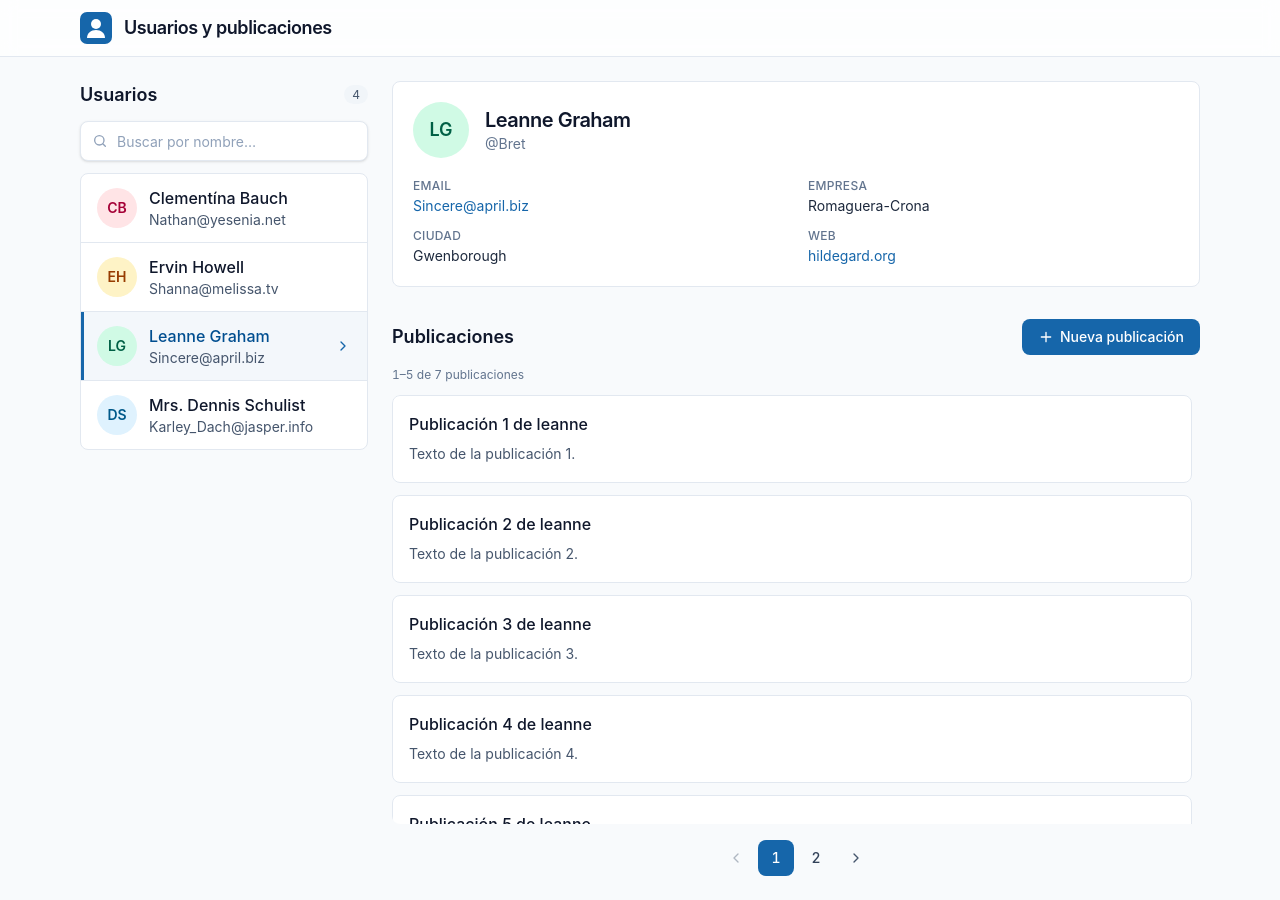
Scenario: Publicaciones del usuario › se paginan de 5 en 5
Expected: the text "1–5 de 7 publicaciones" is shown, x1=392 y1=367 x2=524 y2=382
Click the button named "Página siguiente" at (856, 858), box x1=838 y1=840 x2=874 y2=876
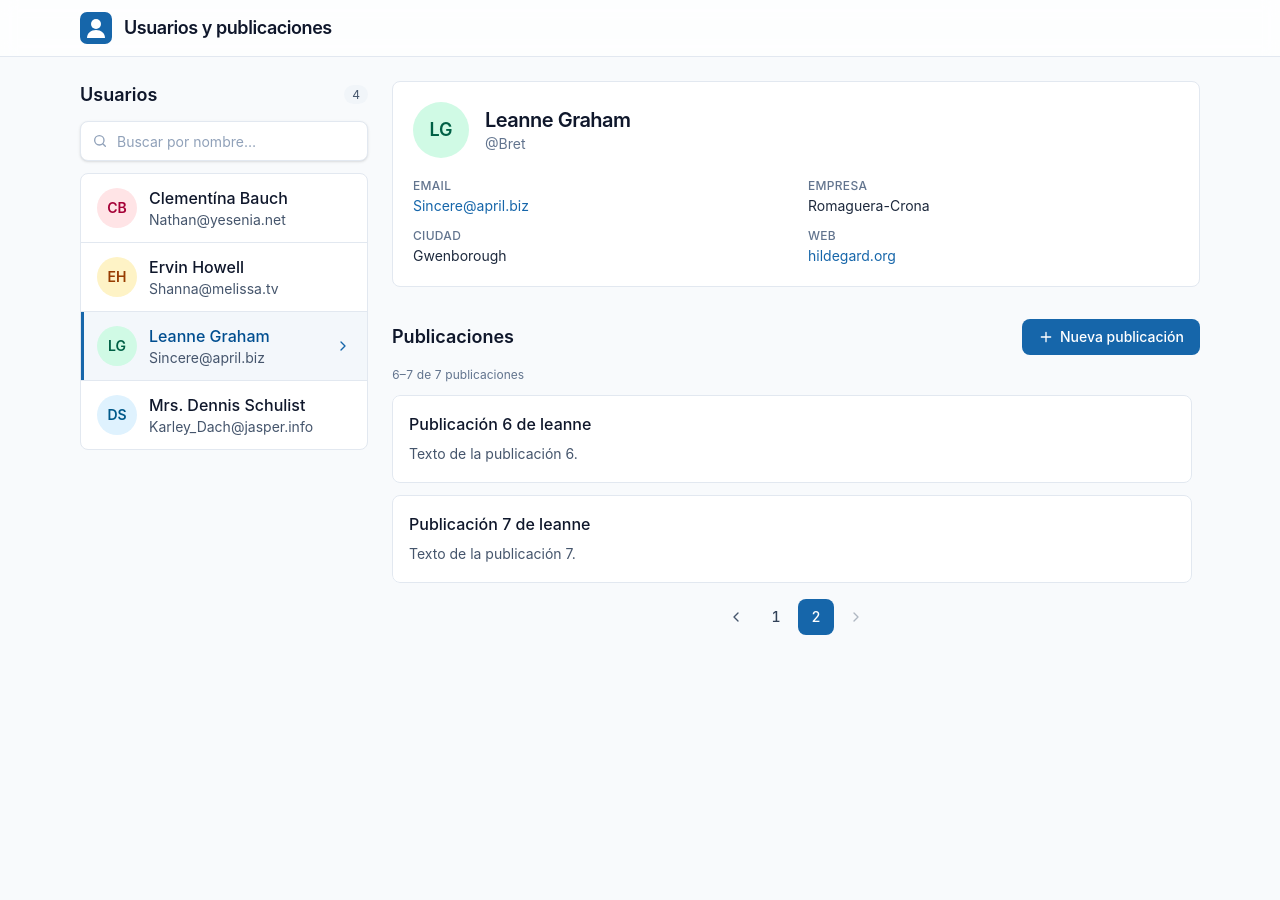
Expected: the text "6–7 de 7 publicaciones" is shown, x1=392 y1=367 x2=524 y2=382
